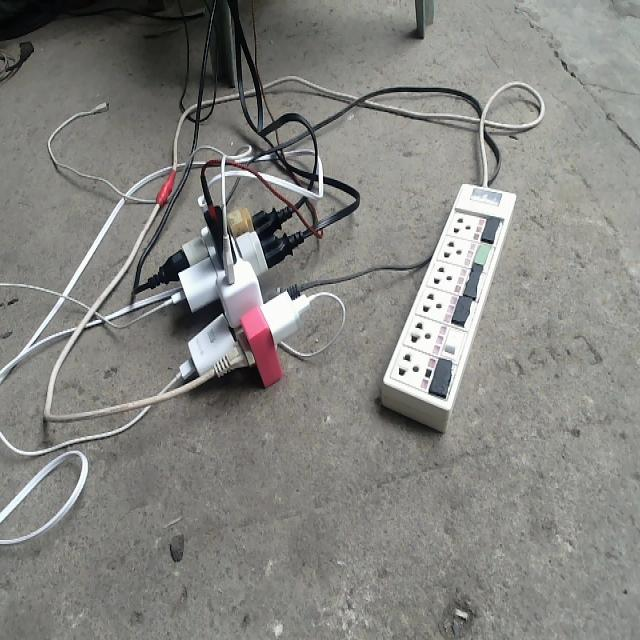-: (155, 182, 319, 390)
